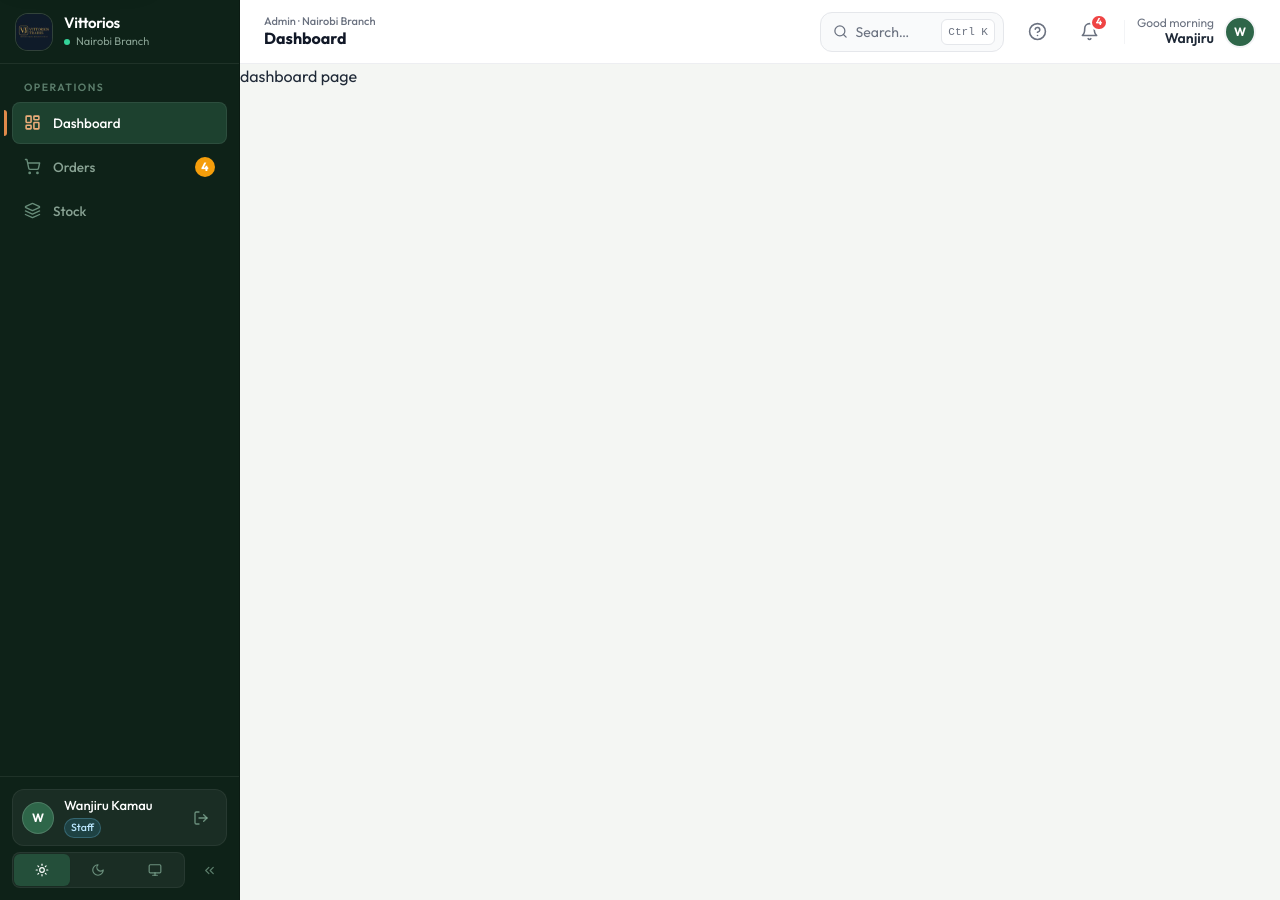
AdminLayout — sidebar › still works when browser storage is unavailable
The width and height of the screenshot is (1280, 900).
What coordinates should you click on to do the following:
click the button named "Collapse sidebar"
I would click on:
 (209, 870)
Its box is [191,852,227,888].
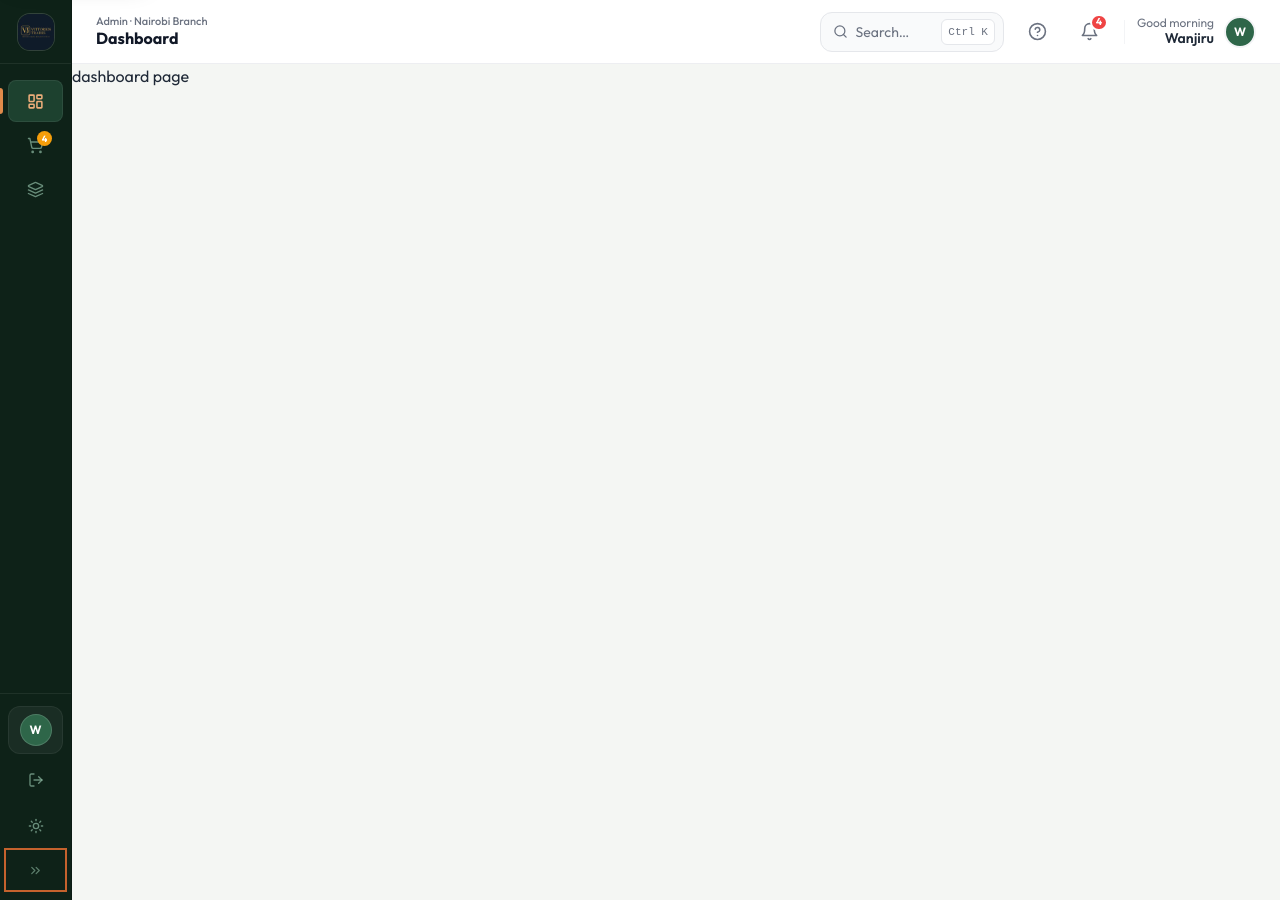
Expected: the button named "Expand sidebar" is shown, [8,852,63,888]
